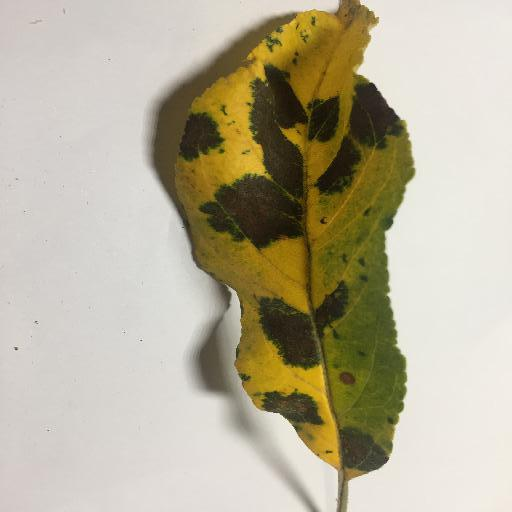Brown_Spot: (181, 80, 395, 249), (248, 287, 349, 372), (262, 383, 326, 431), (339, 429, 393, 476)
